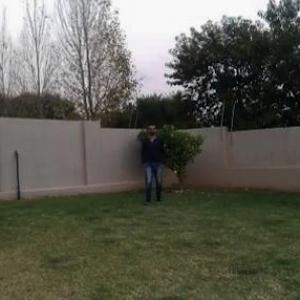follow: (142, 120, 164, 213)
